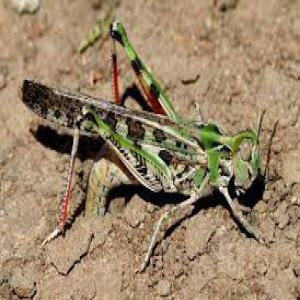locust: (28, 22, 271, 242)
